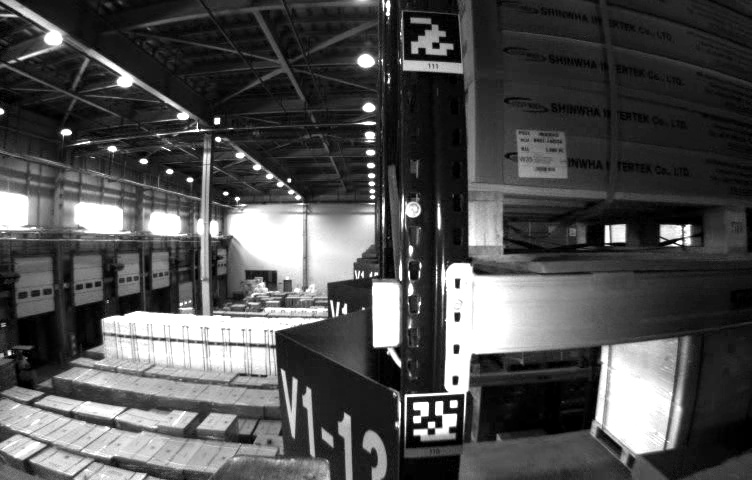True Barcode: (516, 128, 569, 179)
